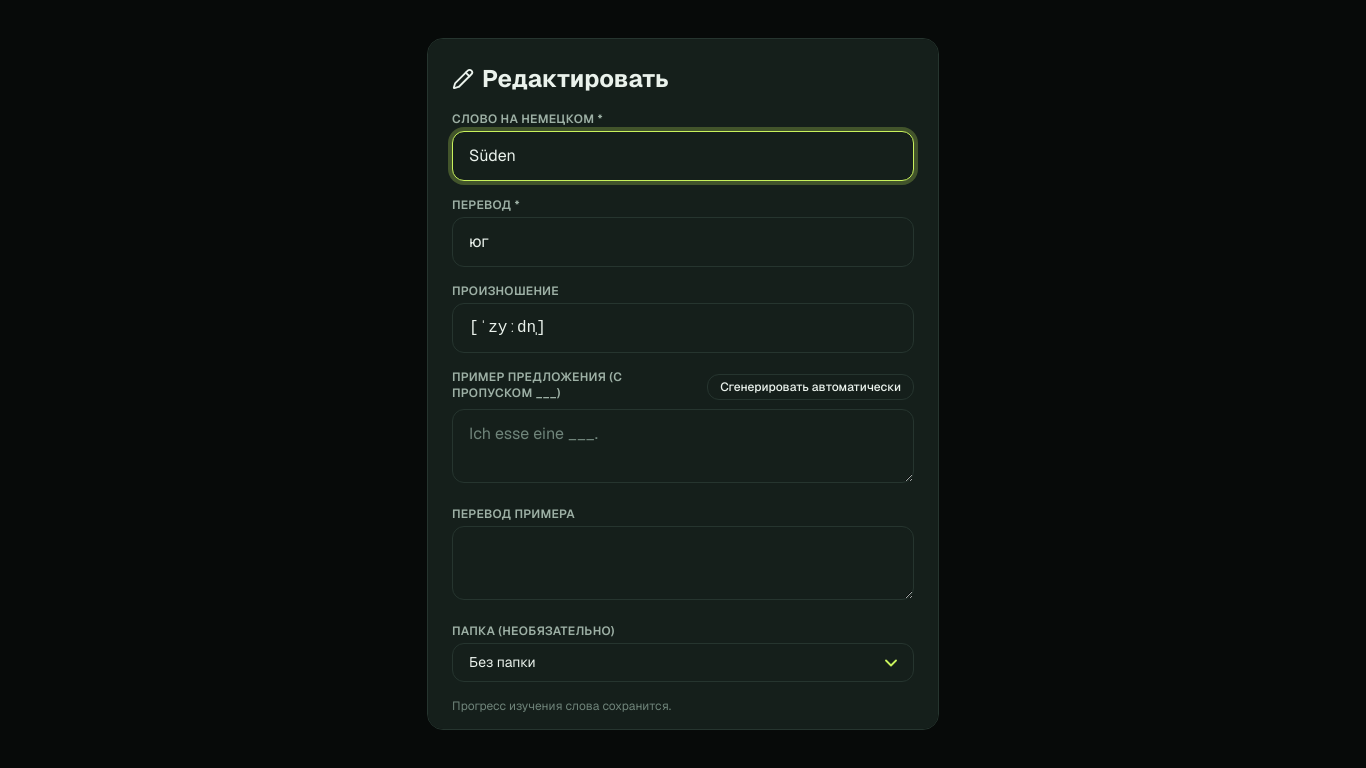
Test: EditWordModal save › a failed request shows the i18n text, never the raw error; the original goes to the console
Replace the text in the field labelled "Перевод *" with "юг!" at (683, 242), box x1=452 y1=217 x2=914 y2=267
(page scrolled)
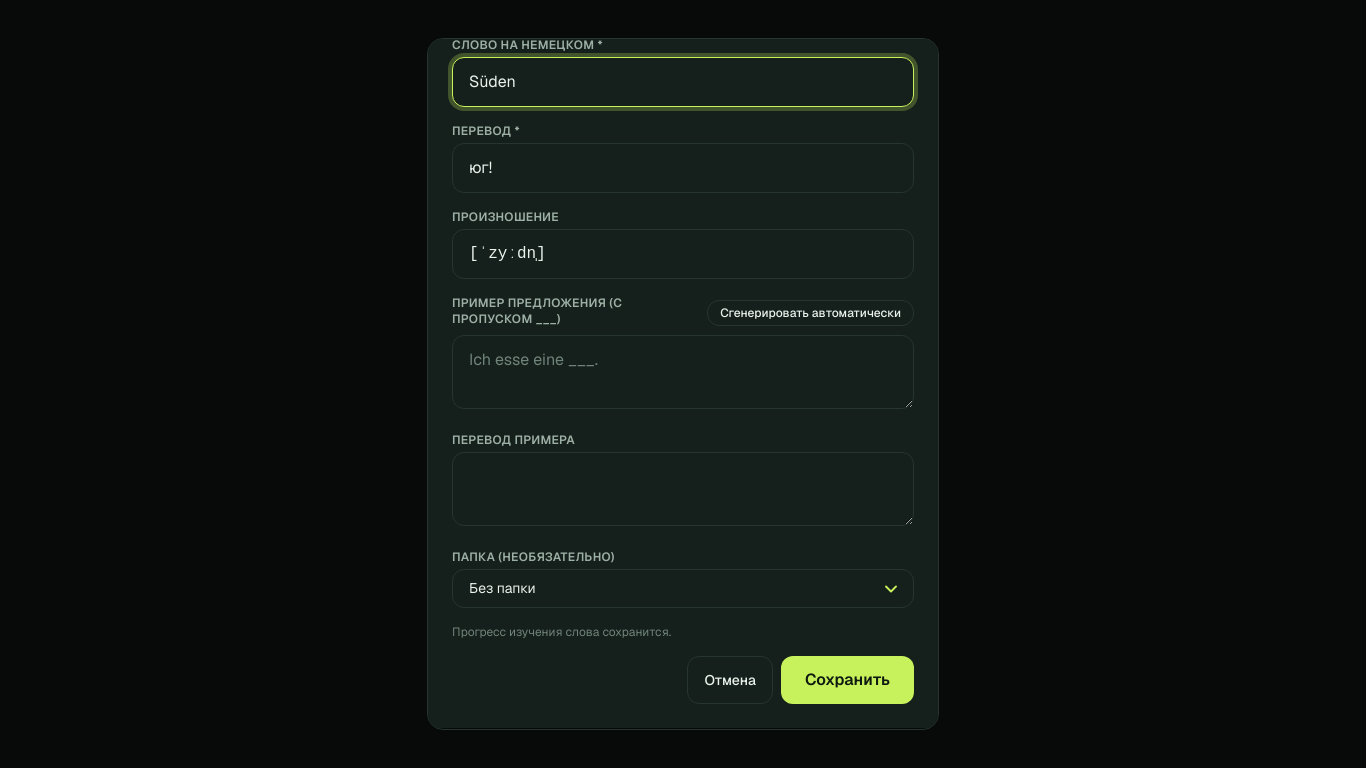
Click the button "Сохранить" at (847, 680), box x1=781 y1=656 x2=914 y2=704
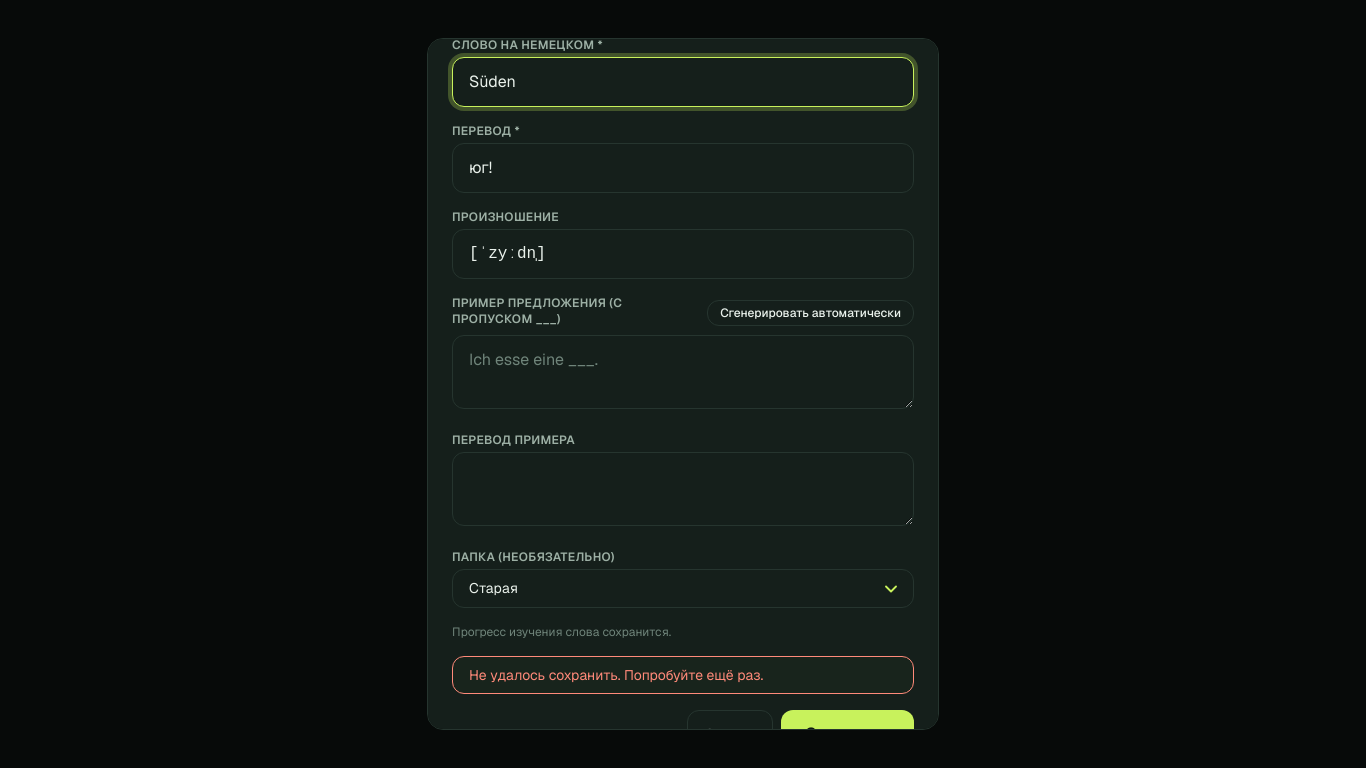
Result: the text "Не удалось сохранить. Попробуйте ещё раз." is shown at x1=452 y1=656 x2=914 y2=694
